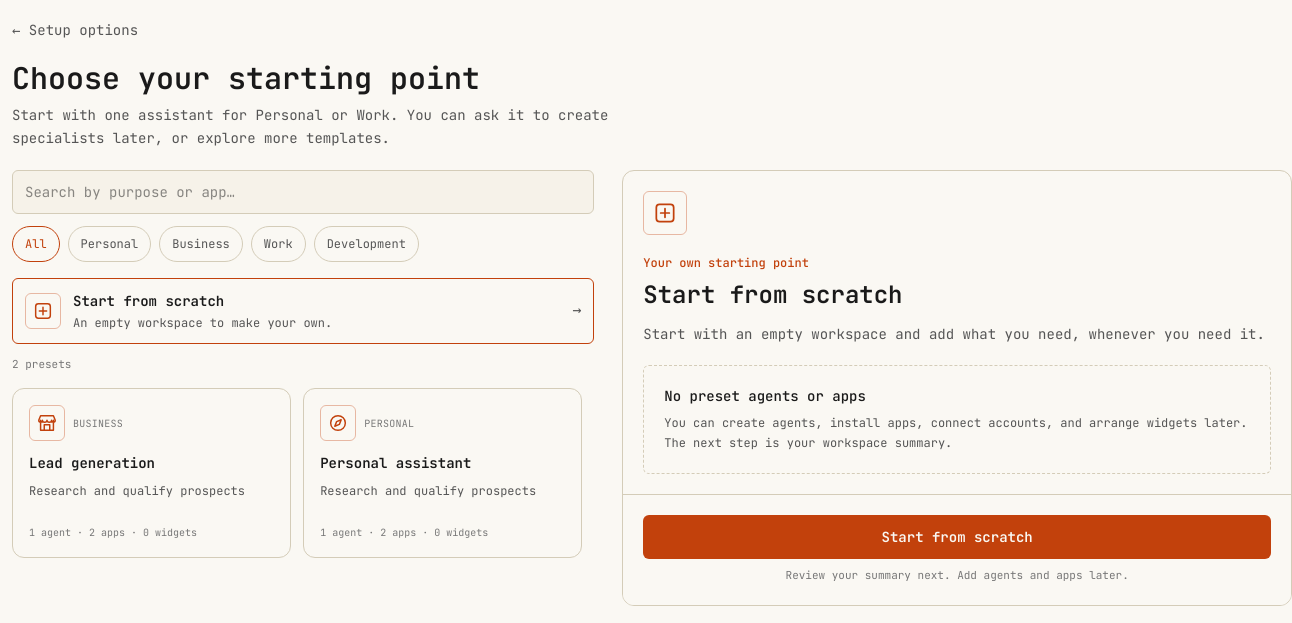
Scenario: all categories are visible initially and category filtering does not choose an interface
Expected: the button "Personal assistant" is shown, left=303, top=388, right=582, bottom=558
Expected: the button "Lead generation" is shown, left=12, top=388, right=291, bottom=558
Click the button "personal" at (109, 244), box left=68, top=226, right=151, bottom=262
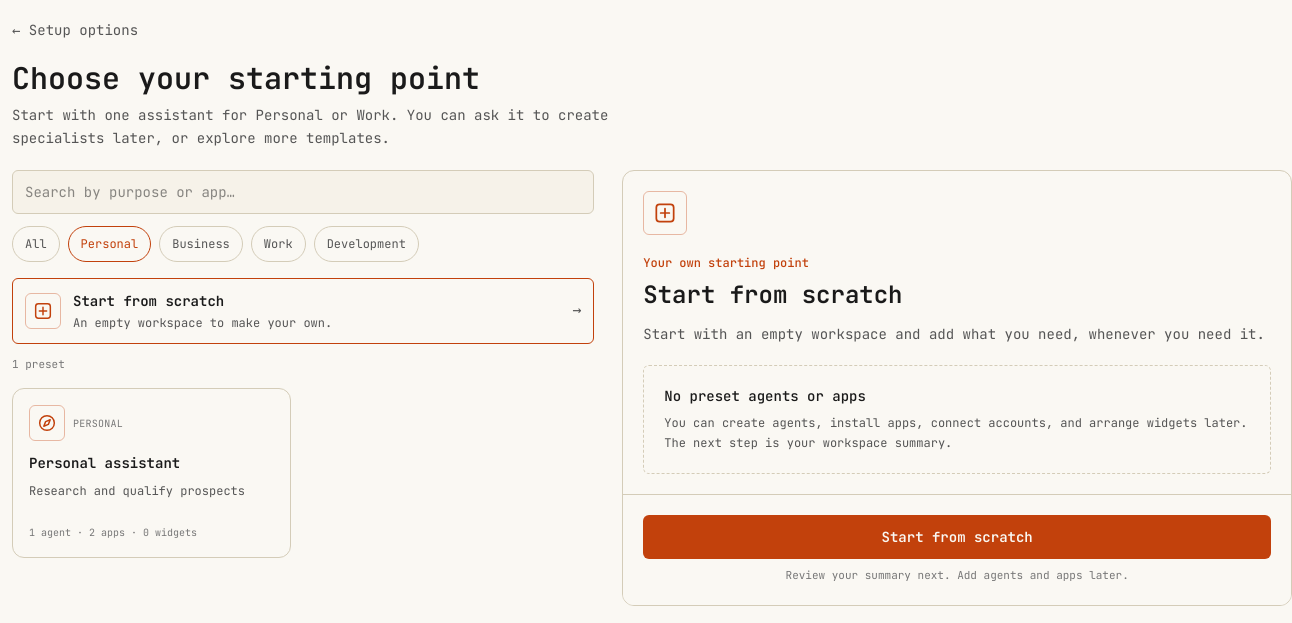
Expected: the button "Lead generation" is gone
